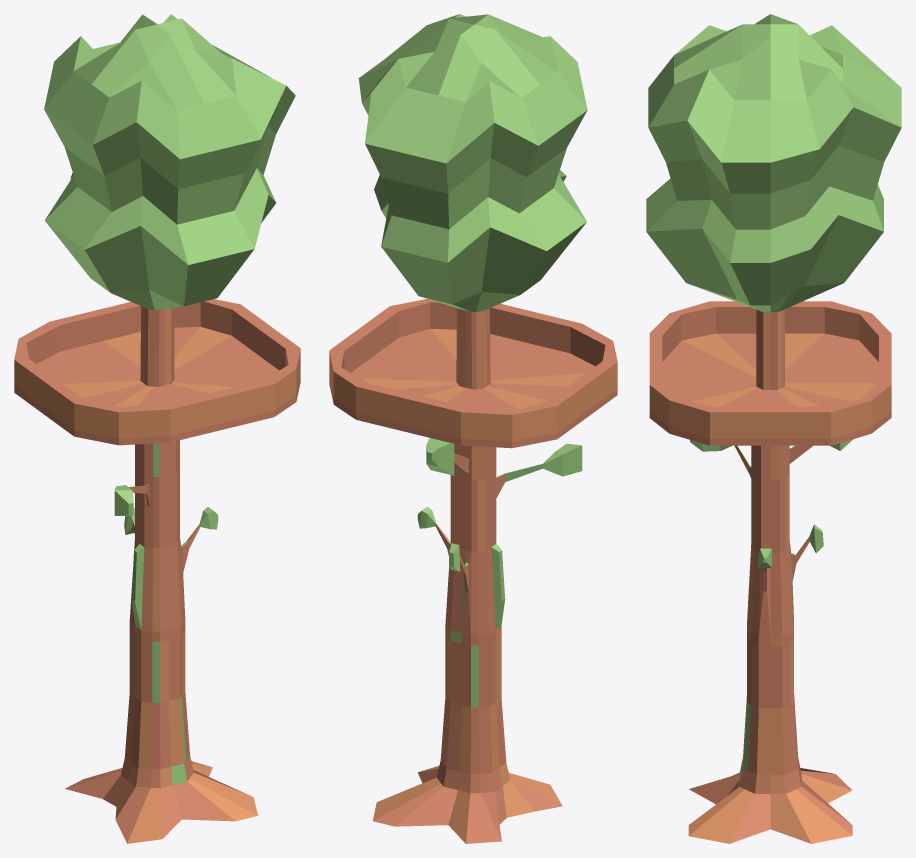
Rendered from träd2.fbx.
3 views of the same model, side by side, from view 1: azimuth 30°, elevation 25°; view 2: azimuth 150°, elevation 25°; view 3: azimuth 270°, elevation 25° (orthographic).
Parts seen in each view (by area): view 1: Cube; view 2: Cube; view 3: Cube.
Boxes of the visible parts, <box> form: Cube: <box>14,14,300,843</box>; Cube: <box>329,14,617,843</box>; Cube: <box>646,14,901,843</box>.
Size of the model in its own units: 312 by 1029 by 302.
